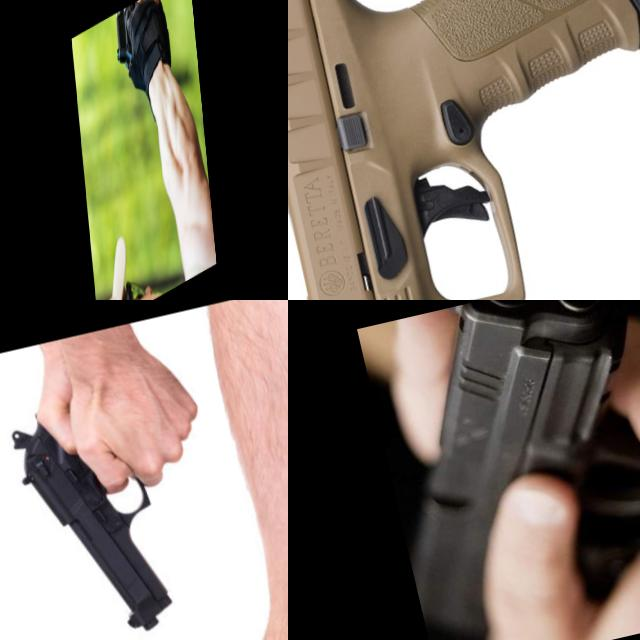handgun: (288, 0, 640, 300), (357, 300, 640, 640), (0, 381, 186, 640), (112, 0, 152, 75)
